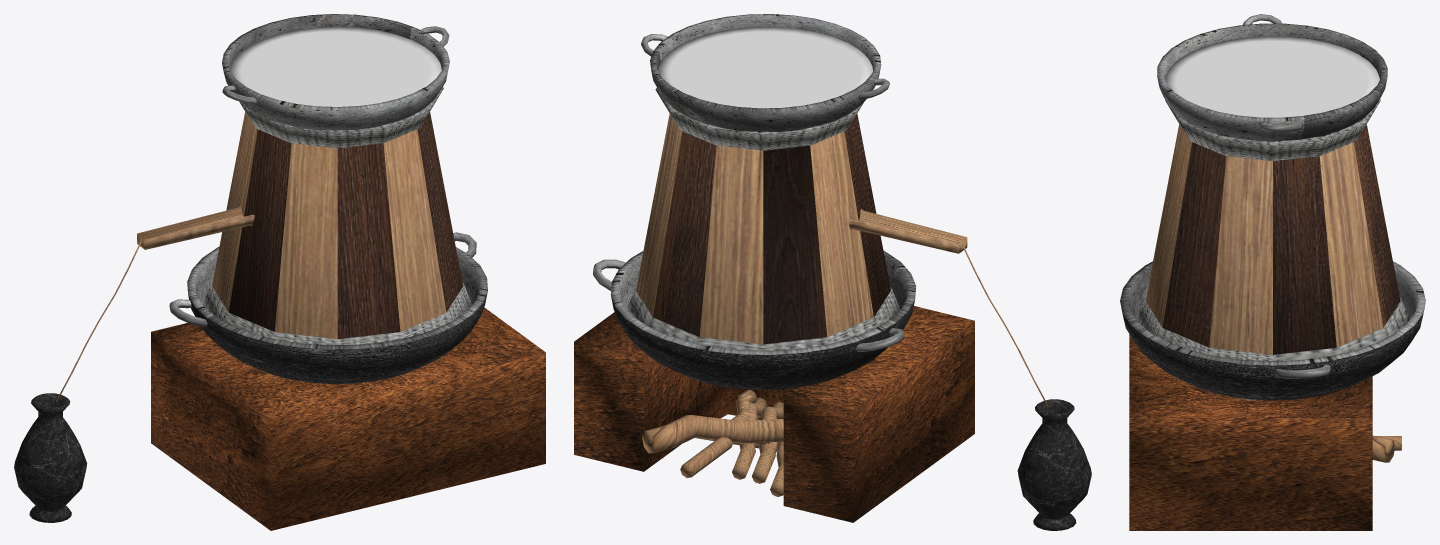
Rendered from kitchen.fbx.
The picture shows the model from 3 angles, left to right: view 1: azimuth 30°, elevation 25°; view 2: azimuth 150°, elevation 25°; view 3: azimuth 270°, elevation 25°; orthographic projection.
Parts seen in each view (by area): view 1: Cube.017; view 2: Cube.017; view 3: Cube.017.
Part boxes in pixels (x1=…): Cube.017: x1=14, y1=14, x2=545, y2=530; Cube.017: x1=574, y1=14, x2=1091, y2=530; Cube.017: x1=1120, y1=14, x2=1425, y2=530.
Bounding box in the file's own units: 258 × 144 × 204.
Materials: 8 (7 with a texture image).
